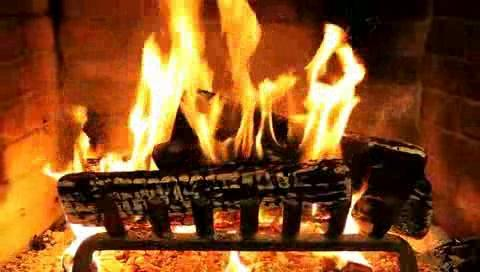fire: (115, 3, 370, 181)
